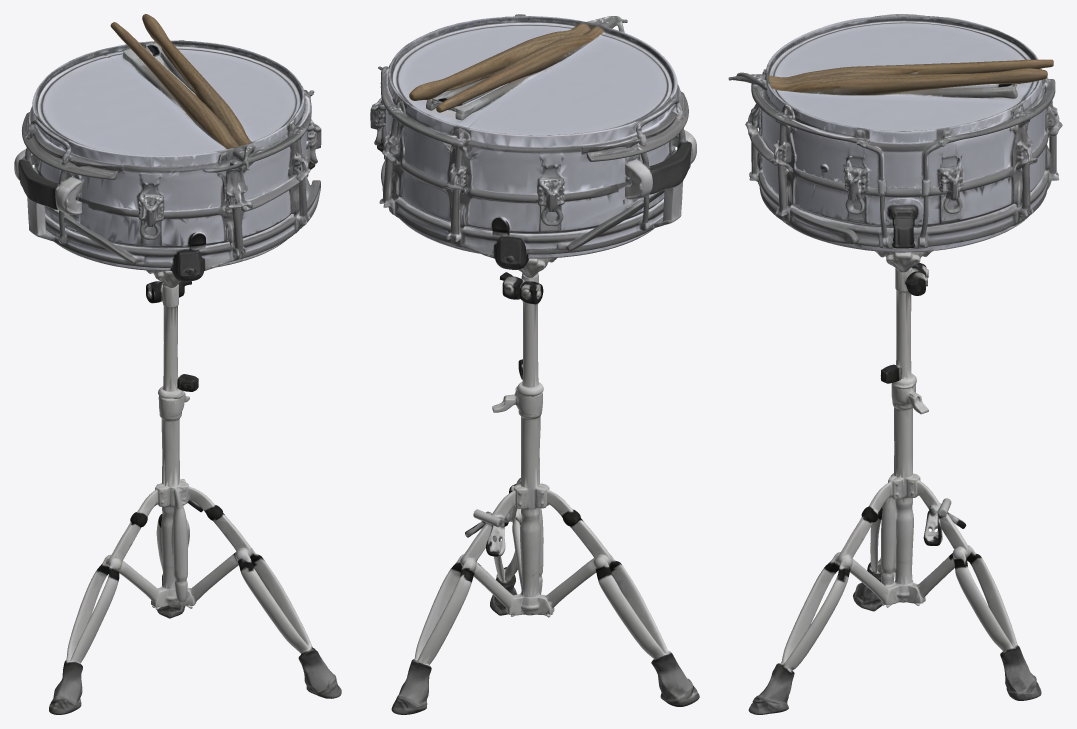
File: caixa.glb
The picture shows the model from 3 angles, left to right: view 1: azimuth 30°, elevation 25°; view 2: azimuth 150°, elevation 25°; view 3: azimuth 270°, elevation 25°; orthographic projection. The views are drawn at different scales.
Parts seen in each view (by area): view 1: tripo_node_84ee7d71-4d80-4e86-83c9-44064bc0c9f5; view 2: tripo_node_84ee7d71-4d80-4e86-83c9-44064bc0c9f5; view 3: tripo_node_84ee7d71-4d80-4e86-83c9-44064bc0c9f5.
Part boxes in pixels (x1,y1,x2,y2): tripo_node_84ee7d71-4d80-4e86-83c9-44064bc0c9f5: [14, 14, 341, 714]; tripo_node_84ee7d71-4d80-4e86-83c9-44064bc0c9f5: [370, 14, 699, 714]; tripo_node_84ee7d71-4d80-4e86-83c9-44064bc0c9f5: [728, 14, 1062, 714].
Bounding box in the file's own units: 0.4897 × 0.9805 × 0.4782.
1 material, 1 textured.
